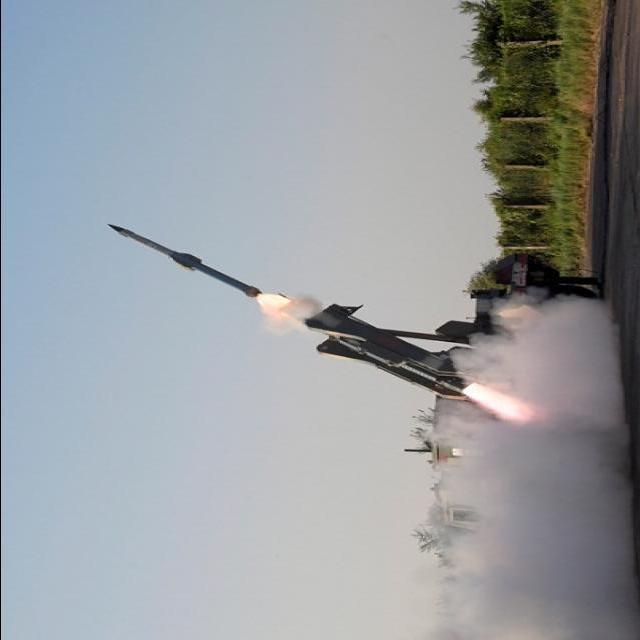Missile: (105, 220, 266, 299)
